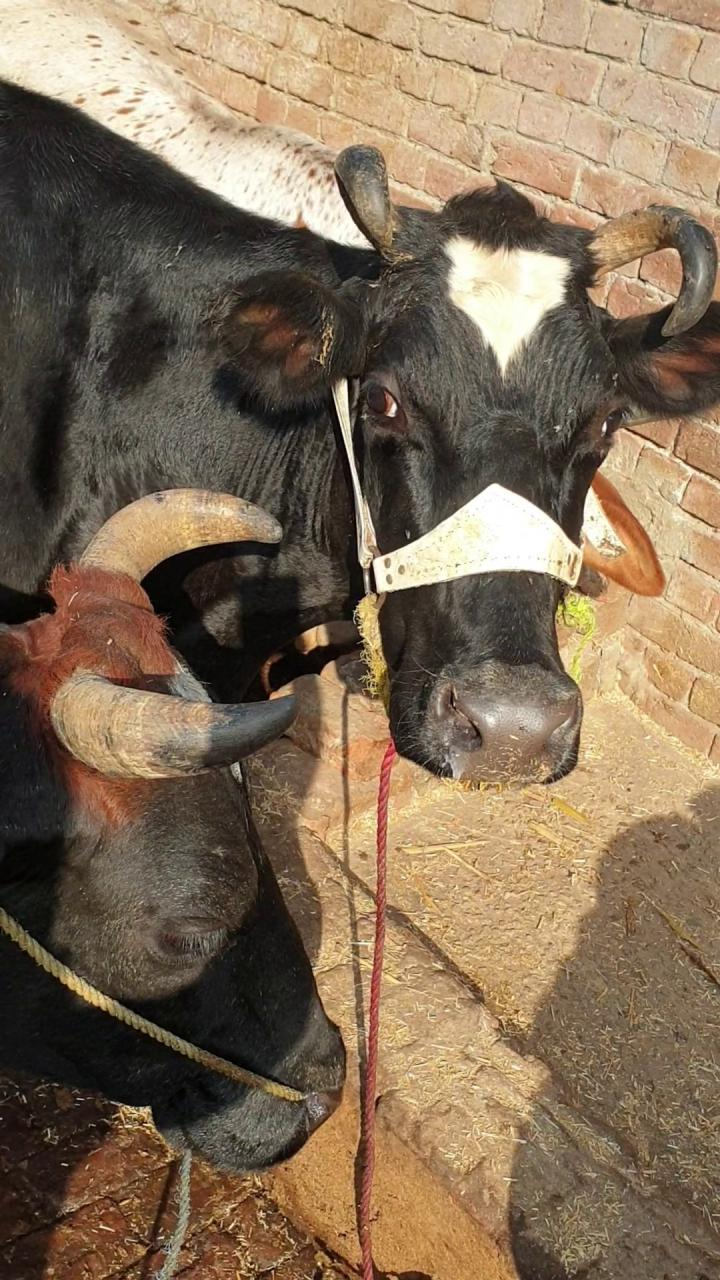cows: (310, 122, 697, 805), (34, 558, 388, 1175)
